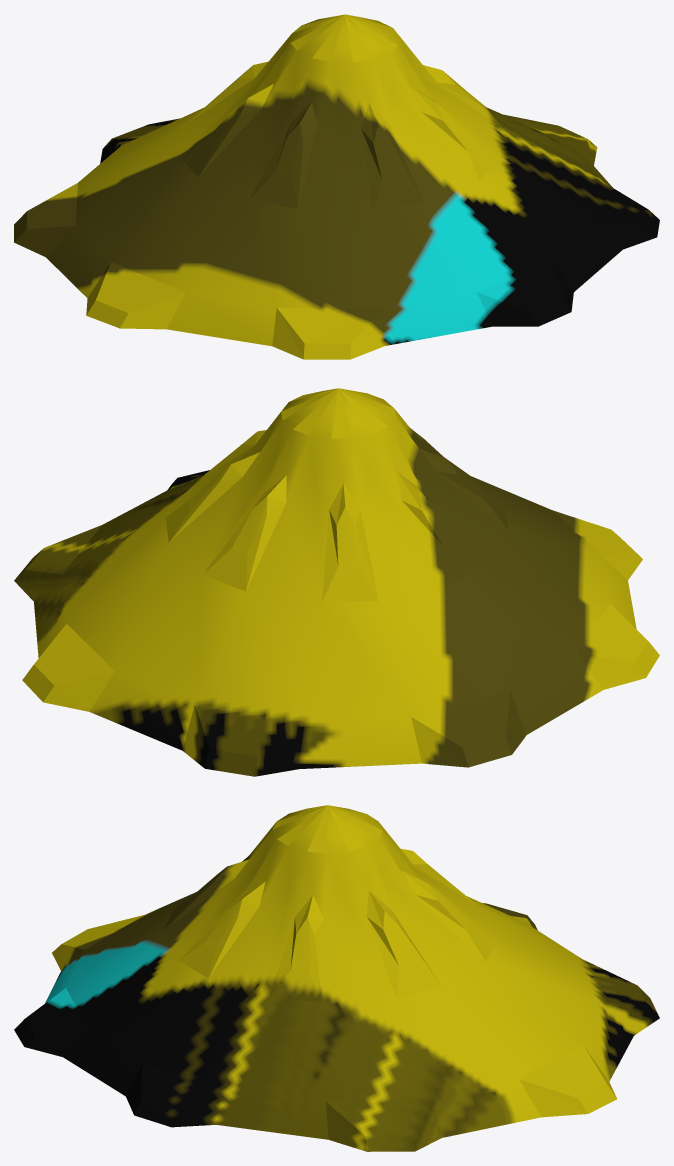
File: mine 1 with texture.FBX
The picture shows the model from 3 angles, top to bottom: view 1: azimuth 30°, elevation 25°; view 2: azimuth 150°, elevation 25°; view 3: azimuth 270°, elevation 25°; orthographic projection. The views are drawn at different scales.
Visible parts, largest first — view 1: Sphere001; view 2: Sphere001; view 3: Sphere001.
Boxes of the visible parts, <box> form: Sphere001: <box>14,14,659,359</box>; Sphere001: <box>14,388,659,776</box>; Sphere001: <box>14,805,659,1151</box>.
Size of the model in its own units: 80.98 by 33.04 by 82.6.
